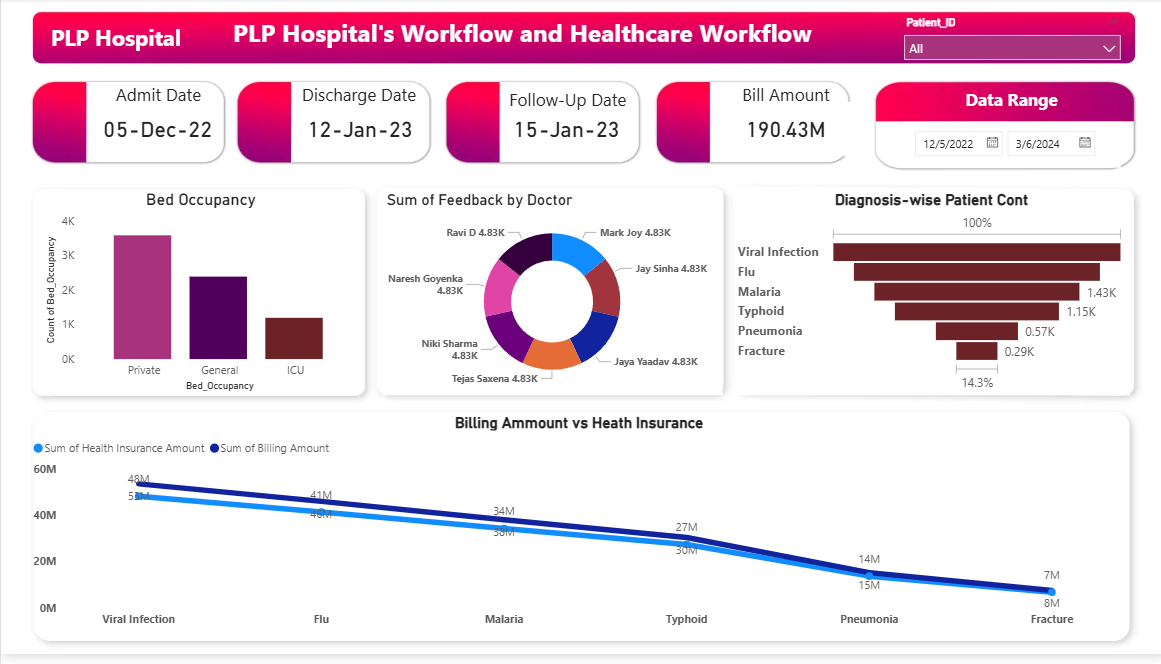

This screenshot's page, from the dashboard's own definition file:
{"tool":"powerbi","page":{"name":"Page 1","canvas":[1280,720],"ordinal":0},"visuals":[{"type":"slicer","fields":{"Values":["Sheet1.Patient_ID"]},"box":[981.1,15.1,258,60.4],"z":0},{"type":"textbox","box":[43.9,22,164.7,45.3],"z":1000},{"type":"textbox","box":[249.7,15.1,669.6,52.1],"z":2000},{"type":"card","fields":{"Values":["Sheet1.Admit_Date"]},"box":[94.7,113.9,155.1,59],"z":3000},{"type":"textbox","box":[113.9,87.8,118,50.8],"z":4000},{"type":"textbox","box":[314.2,87.8,157.8,50.8],"z":5000},{"type":"card","fields":{"Values":["Sheet1.Discharge_Date"]},"box":[317,113.9,155.1,59],"z":6000},{"type":"textbox","box":[544.8,93.3,155.1,39.8],"z":7000},{"type":"card","fields":{"Values":["Sheet1.Followup Date"]},"box":[543.4,113.9,155.1,59],"z":8000},{"type":"textbox","box":[791.8,87.8,140,45.3],"z":9000},{"type":"card","fields":{"Values":["Sheet1.Billing Amount"]},"box":[779.4,113.9,164.7,59],"z":10000},{"type":"textbox","box":[1034.7,93.3,149.6,42.5],"z":11000},{"type":"columnChart","title":"Bed Occupancy","fields":{"Category":["Sheet1.Bed_Occupancy"],"Y":["Sheet1.Bed_Occupancy"]},"box":[43.9,209.9,351.3,226.4],"z":12000},{"type":"slicer","fields":{"Values":["Sheet1.Admit_Date"]},"box":[990.7,135.8,238.8,50.8],"z":13000},{"type":"donutChart","fields":{"Y":["Sheet1.Feedback"],"Category":["Sheet1.Doctor"]},"box":[418.5,211.3,373.2,225],"z":14000},{"type":"funnel","title":"Diagnosis-wise Patient Cont ","fields":{"Category":["Sheet1.Diagnosis"],"Y":["Sheet1.Patient_ID"]},"box":[804.1,211.3,435,225],"z":14001},{"type":"lineChart","title":"Billing Ammount vs Heath Insurance","fields":{"Y":["Sheet1.Health Insurance Amount","Sheet1.Billing Amount"],"Category":["Sheet1.Diagnosis"]},"box":[30.2,455.6,1208.9,244.3],"z":14002}]}

Visuals, with their boxes in screenshot pixels (x1, y1, x2, y2), scaled from the page's 1280x720 canvas onto the 1161x664 screenshot:
slicer - Sheet1.Patient_ID: (890,14,1124,70)
textbox: (40,20,189,62)
textbox: (226,14,834,62)
card - Sheet1.Admit_Date: (86,105,227,159)
textbox: (103,81,210,128)
textbox: (285,81,428,128)
card - Sheet1.Discharge_Date: (288,105,428,159)
textbox: (494,86,635,123)
card - Sheet1.Followup Date: (493,105,634,159)
textbox: (718,81,845,123)
card - Sheet1.Billing Amount: (707,105,856,159)
textbox: (939,86,1074,125)
"Bed Occupancy" columnChart: (40,194,358,402)
slicer - Sheet1.Admit_Date: (899,125,1115,172)
donutChart - Sheet1.Feedback x Sheet1.Doctor: (380,195,718,402)
"Diagnosis-wise Patient Cont " funnel: (729,195,1124,402)
"Billing Ammount vs Heath Insurance" lineChart: (27,420,1124,645)
